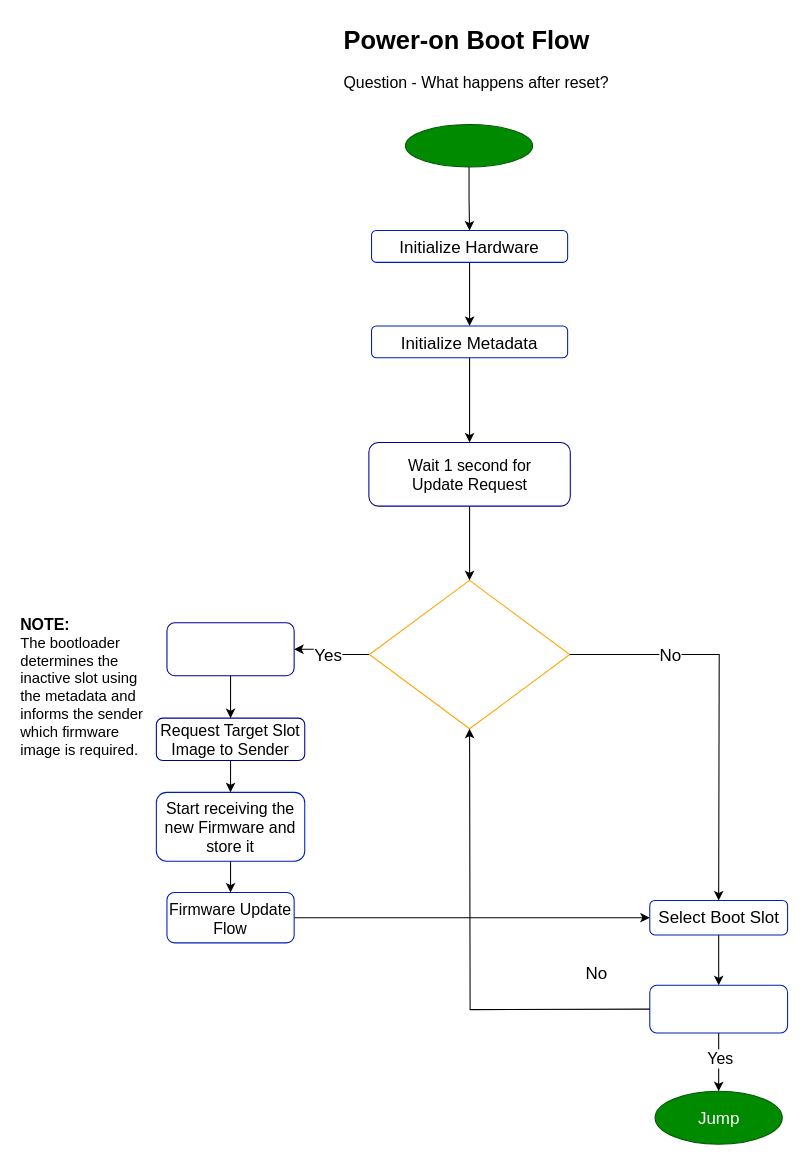
Image size: 806x1163. Some labels were removed from this diagram. Here are the shapes that lost their labels. From the top down, the centre of each, then its label:
the point at 468,145: Power ON
the point at 230,649: Determine Inactive Slot
the point at 469,654: Update Request Received ?
the point at 718,1008: Bootable Slot
